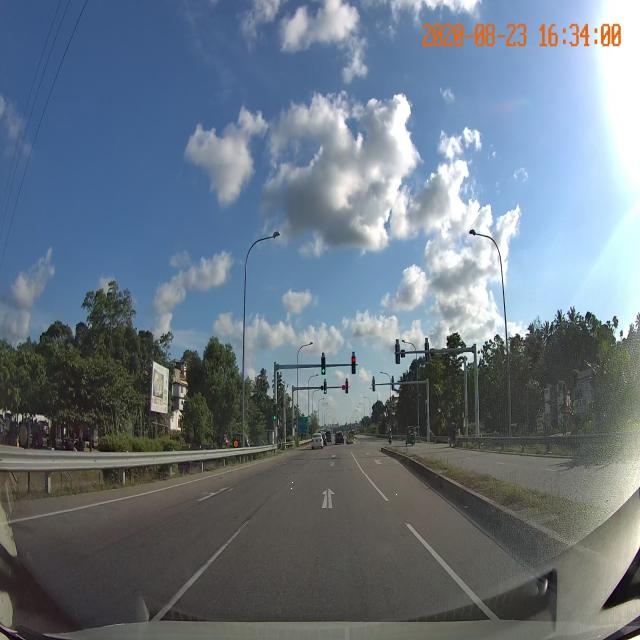forward: (239, 475, 407, 530)
